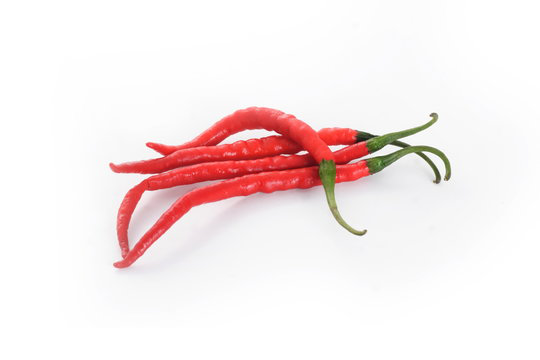Cabai: (89, 65, 465, 295)
